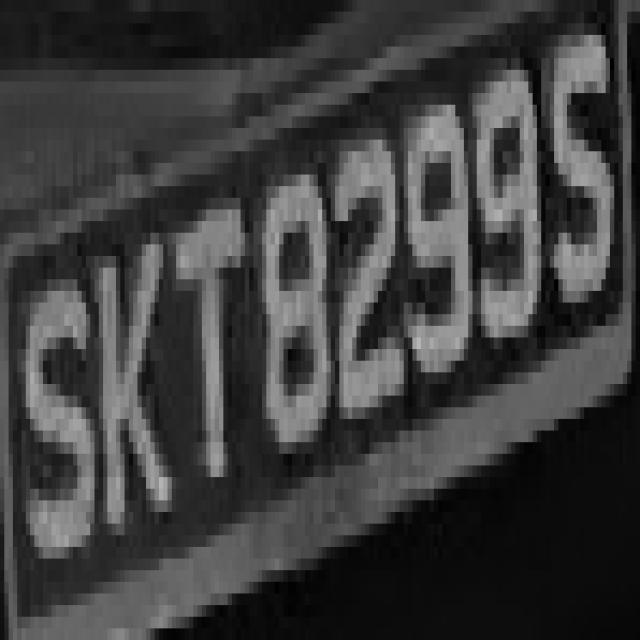2: (322, 105, 412, 454)
8: (249, 151, 331, 477)
9: (460, 35, 541, 372), (395, 70, 473, 407)
K: (86, 198, 176, 558)
S: (13, 233, 94, 605), (537, 23, 623, 314)
T: (167, 151, 245, 547)
